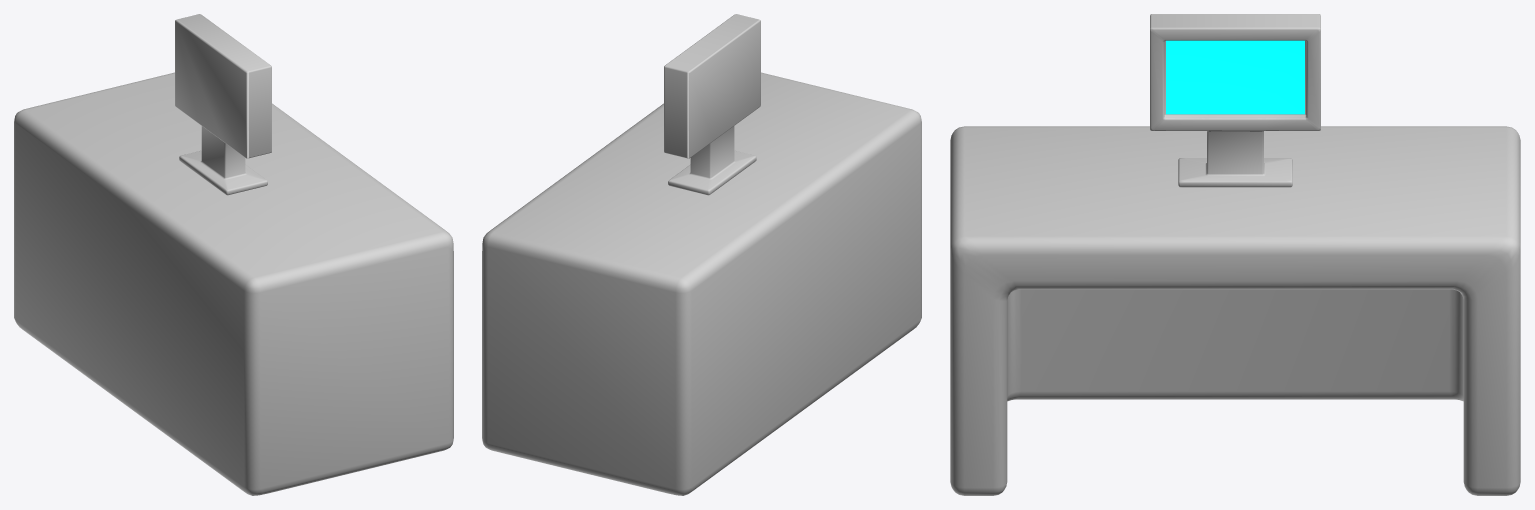
The model's file is DeskAndPc.fbx.
3 renders of one model, left to right at view 1: azimuth 30°, elevation 25°; view 2: azimuth 150°, elevation 25°; view 3: azimuth 270°, elevation 25°, orthographic. The views are drawn at different scales.
Parts seen in each view (by area): view 1: Cube.019, Cube.020; view 2: Cube.019, Cube.020; view 3: Cube.019, Cube.020.
Boxes of the visible parts, bbox=[...] form: Cube.019: bbox=[14, 72, 453, 495]; Cube.020: bbox=[175, 14, 271, 195]; Cube.019: bbox=[482, 72, 921, 495]; Cube.020: bbox=[664, 14, 760, 195]; Cube.019: bbox=[950, 126, 1520, 495]; Cube.020: bbox=[1150, 14, 1320, 187].
Bounding box in the file's own units: 2000 × 1000 × 1600.
